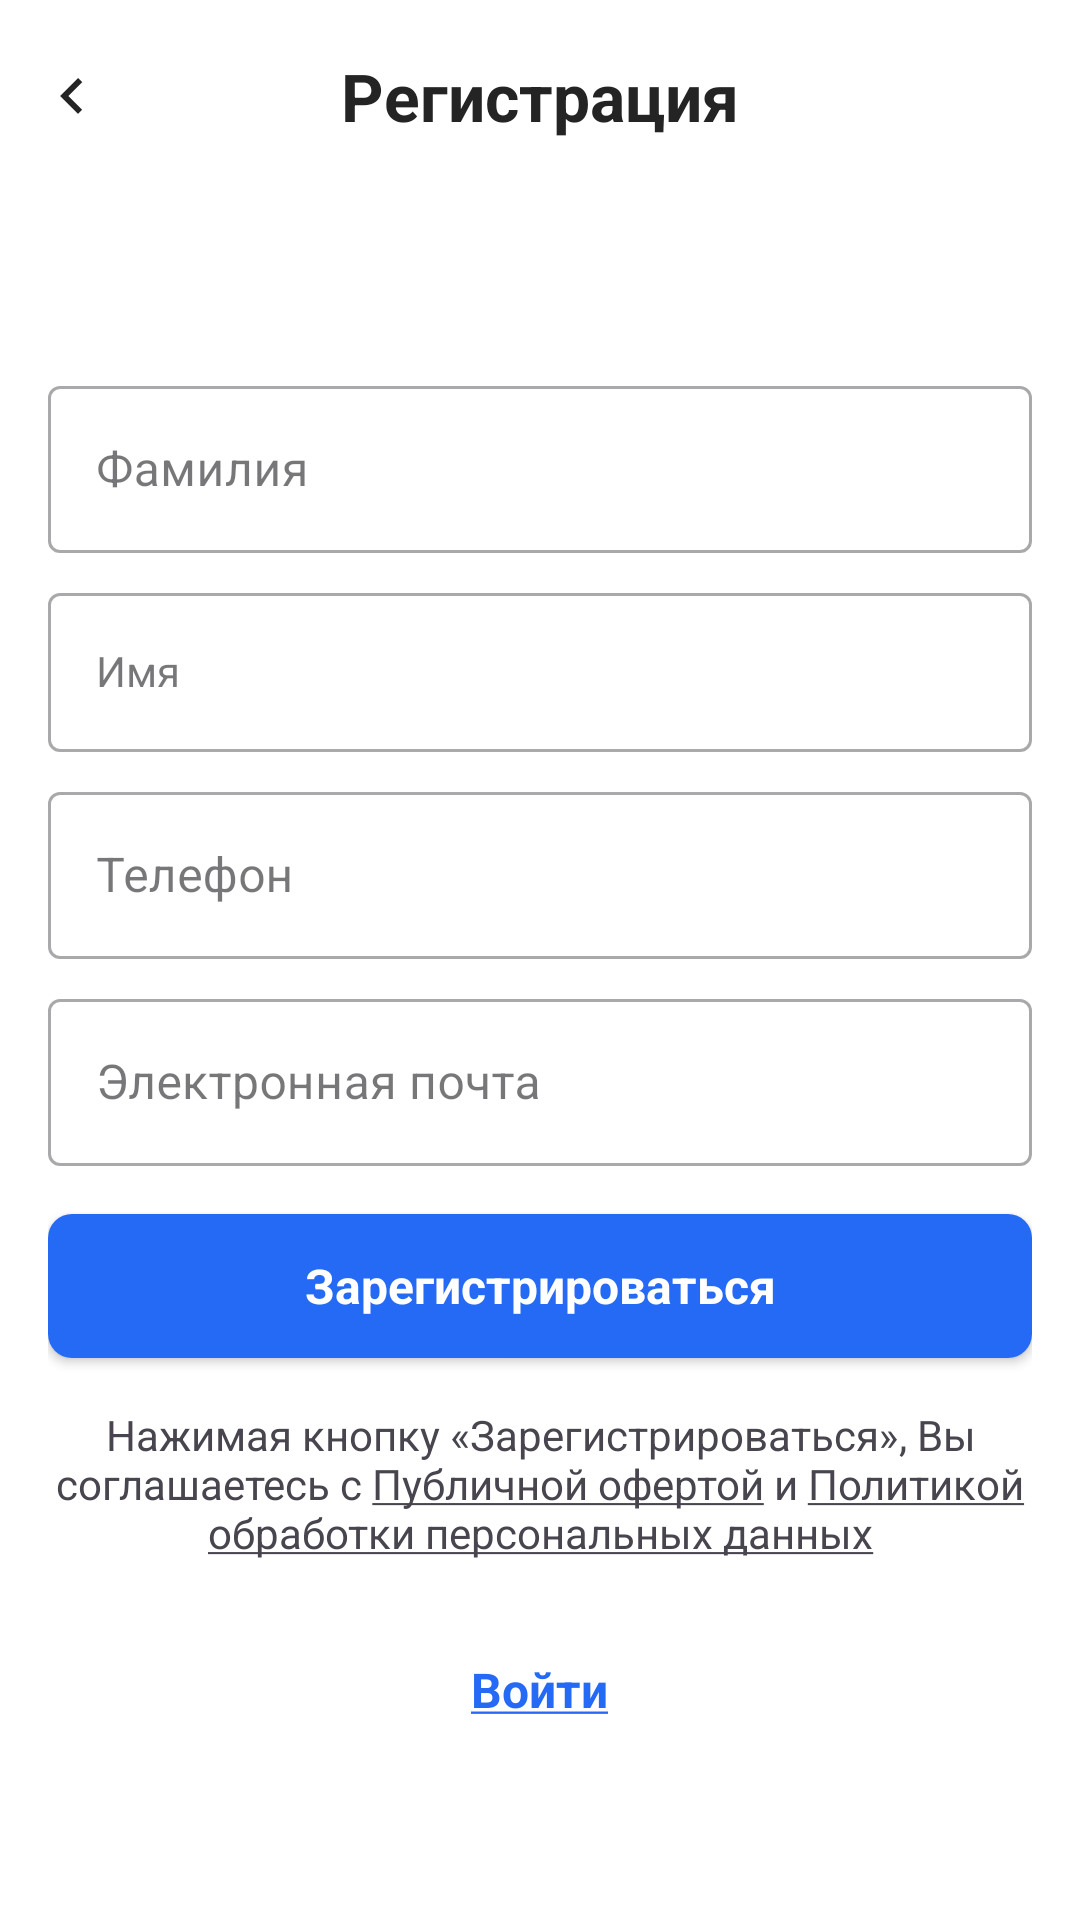

Icons on this 1080px x 1920px Android screen, each with its box as [left=x1, top=y1, right=x2, bottom=y2]:
GO BACK: [left=60, top=78, right=82, bottom=114]
